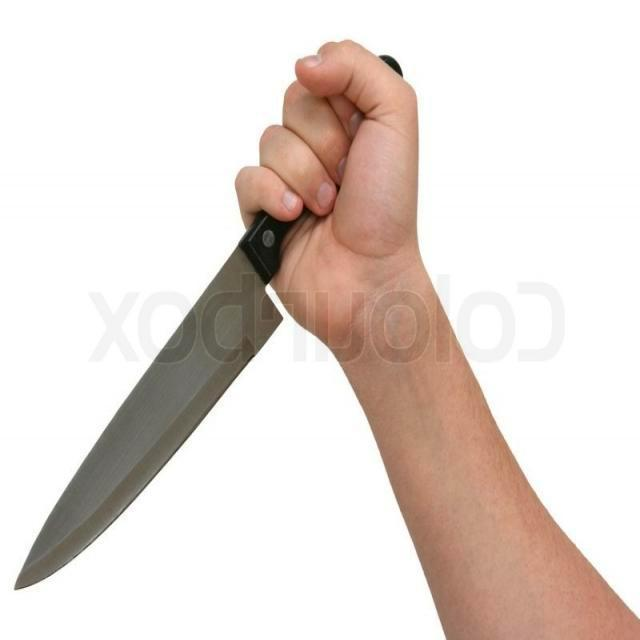Knife: (15, 212, 290, 588)
